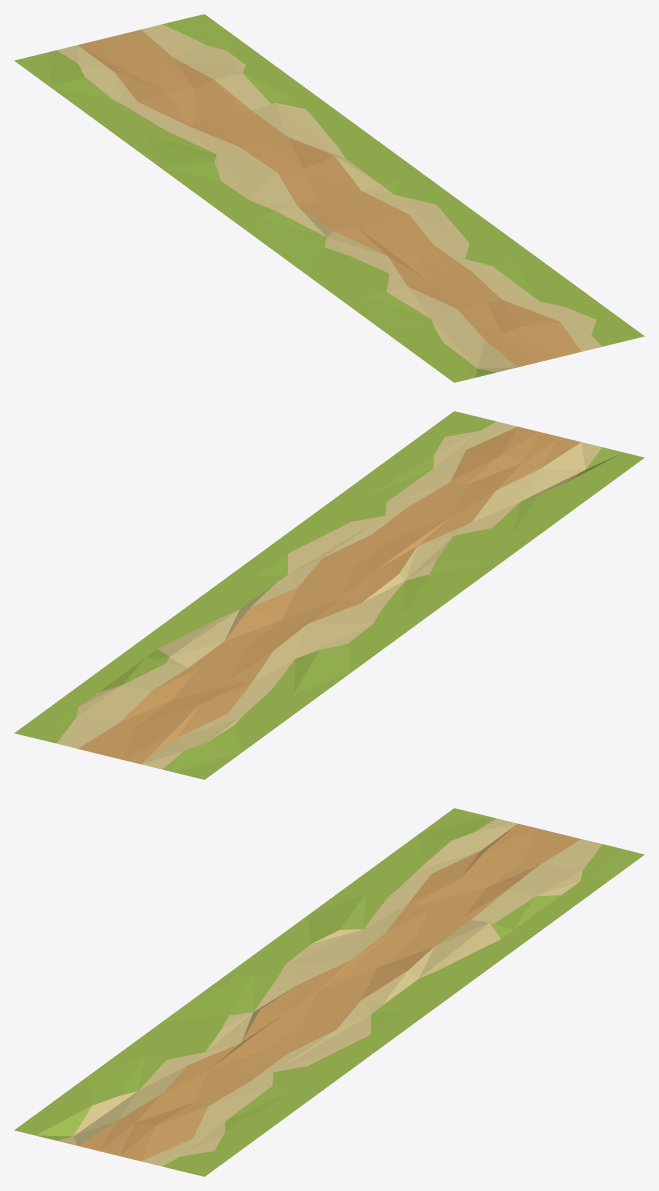
File: Ground1234.dae
The picture shows the model from 3 angles, top to bottom: view 1: azimuth 30°, elevation 25°; view 2: azimuth 150°, elevation 25°; view 3: azimuth 330°, elevation 25°; orthographic projection.
Visible parts, largest first — view 1: Plane.001, Plane.003, Plane.002, Plane; view 2: Plane.003, Plane.002, Plane.001, Plane; view 3: Plane.001, Plane.003, Plane.002, Plane.
Part boxes in pixels (x1,y1,x2,y2): Plane.001: (124,94,424,221); Plane.003: (344,256,644,382); Plane.002: (234,175,534,302); Plane: (14,14,314,140); Plane.003: (344,411,644,537); Plane.002: (234,491,534,618); Plane.001: (124,572,424,699); Plane: (14,653,314,779); Plane.001: (234,888,534,1015); Plane.003: (14,1050,314,1176); Plane.002: (124,969,424,1096); Plane: (344,808,644,934).
Size of the model in its own units: 2 by 8 by 0.1434.
